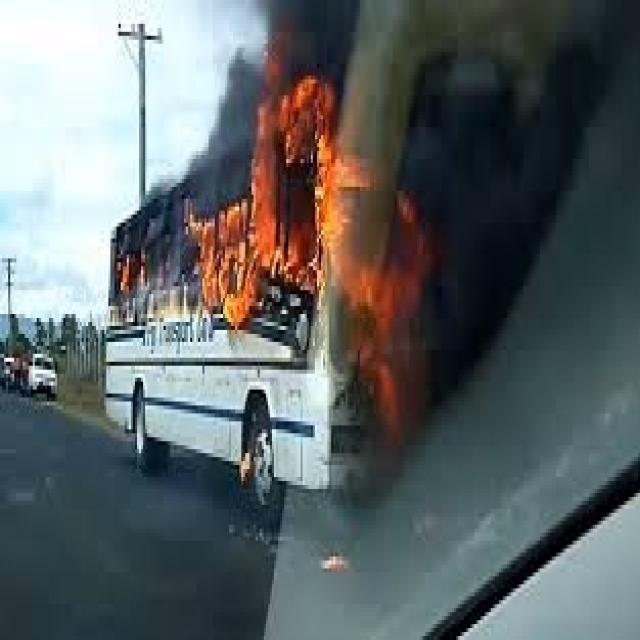Fire: (105, 85, 416, 426), (440, 0, 607, 370)
